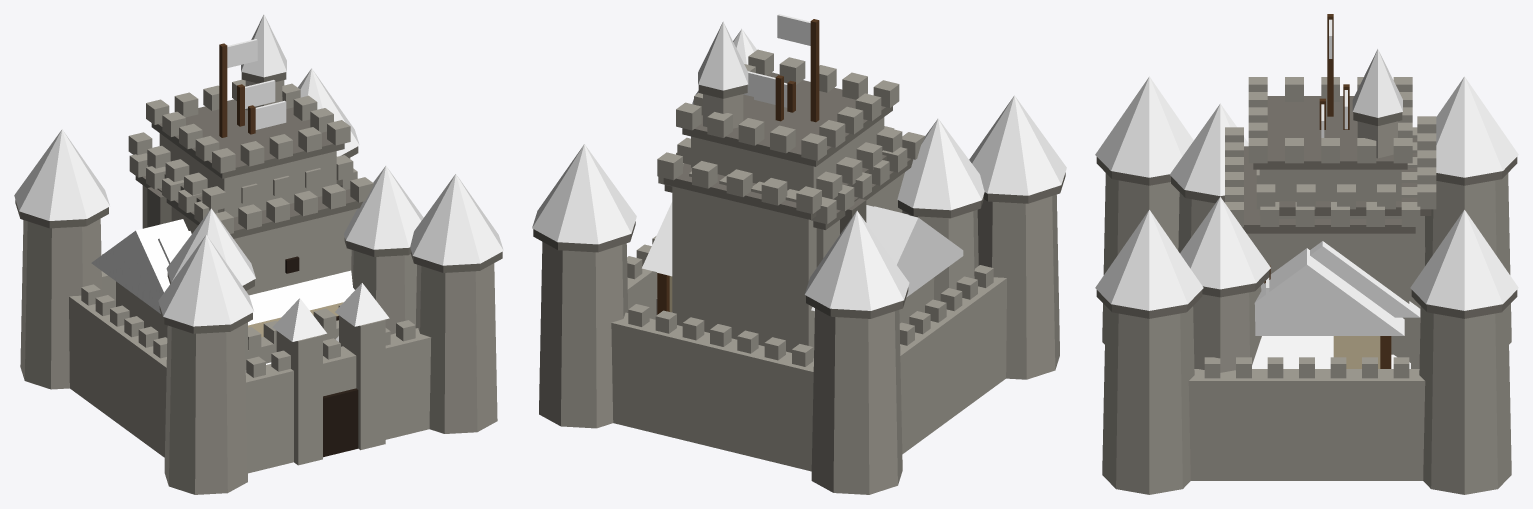
The model's file is buildings.glb.
3 renders of one model, left to right at view 1: azimuth 30°, elevation 25°; view 2: azimuth 150°, elevation 25°; view 3: azimuth 270°, elevation 25°, orthographic. The views are drawn at different scales.
Visible parts, largest first — view 1: level_9, level_8, level_7, level_6, level_5; view 2: level_9, level_8, level_6, level_7, level_5; view 3: level_9, level_8, level_7, level_5, level_6.
Boxes of the visible parts, box(x1,y1,x2,y2) form: level_9: box(14, 14, 503, 494); level_8: box(128, 80, 423, 369); level_7: box(129, 100, 373, 295); level_6: box(91, 187, 338, 341); level_5: box(158, 231, 354, 337); level_9: box(532, 14, 1066, 494); level_8: box(656, 71, 984, 358); level_6: box(657, 198, 963, 324); level_7: box(658, 80, 924, 267); level_5: box(642, 202, 908, 314); level_9: box(1095, 14, 1518, 494); level_8: box(1170, 84, 1436, 372); level_7: box(1225, 98, 1420, 357); level_5: box(1254, 248, 1404, 368); level_6: box(1252, 241, 1420, 368).
Size of the model in its own units: 2.69 by 2.66 by 2.69.
